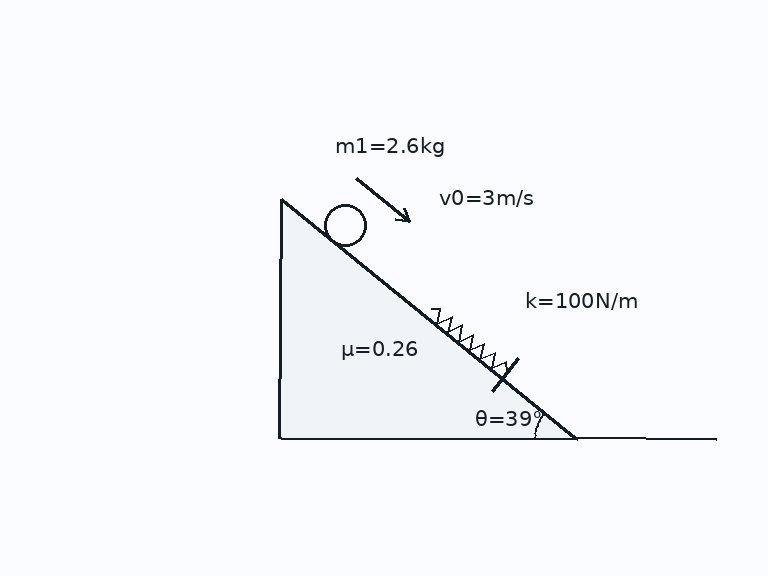ball: (322, 202, 368, 248)
ramp: (278, 197, 577, 440)
spring: (428, 306, 509, 373)
